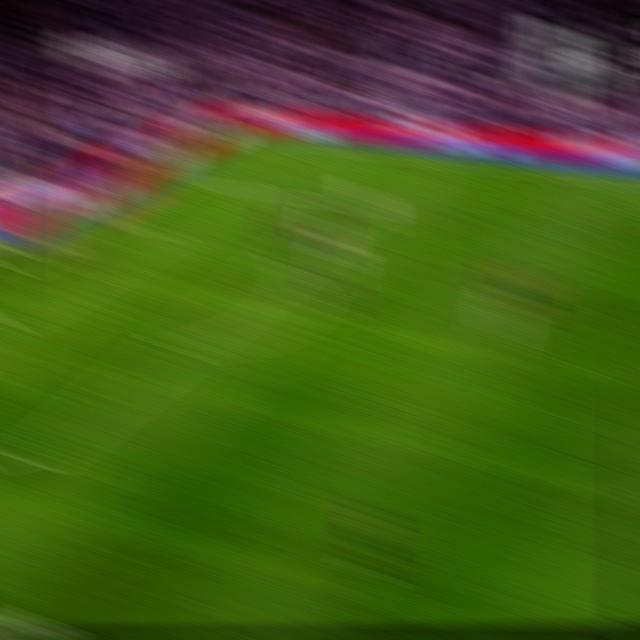bigarea_bottom_inner: (15, 440, 50, 476)
bigarea_top_inner: (345, 196, 372, 217)
bigarea_top_outter: (158, 165, 188, 184)
bottom_arc_area_intersection: (160, 334, 192, 362)
corner: (234, 124, 266, 144)
smallarea_top_inner: (142, 221, 170, 240)
top_arc_area_intersection: (272, 250, 302, 275)
